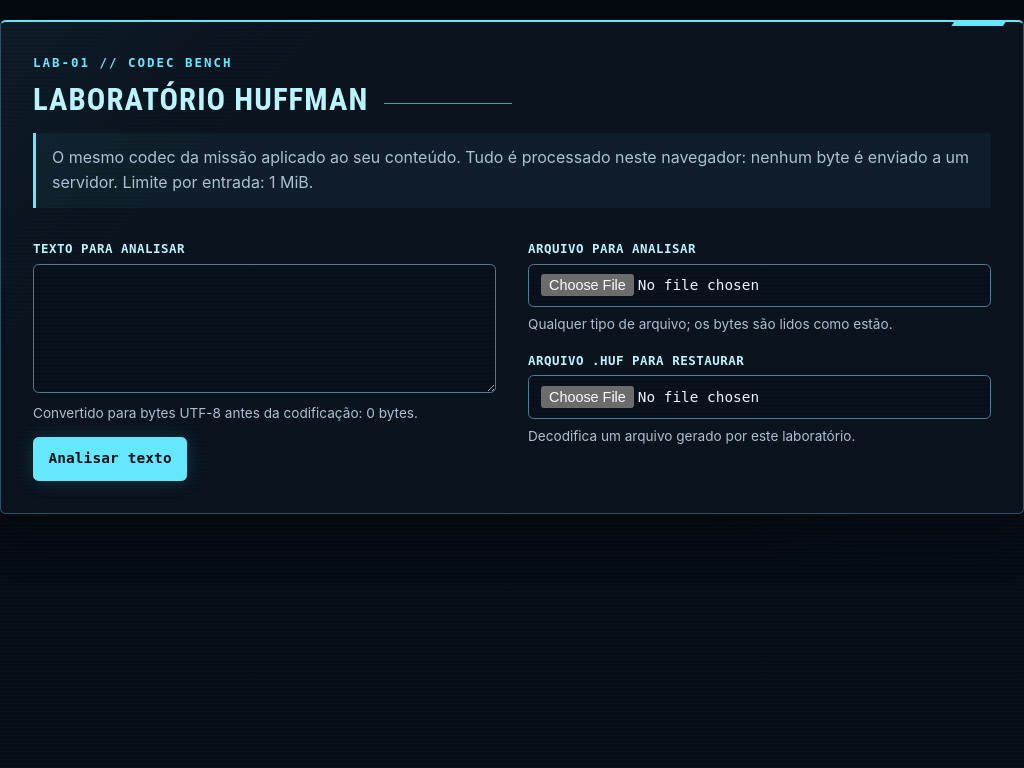
Test: LabTerminal › um erro substitui o resultado anterior em vez de mantê-lo na tela
The width and height of the screenshot is (1024, 768).
In the text box labelled "Texto para analisar": x=264, y=328 [33,264,496,393], type "abracadabra abracadabra"
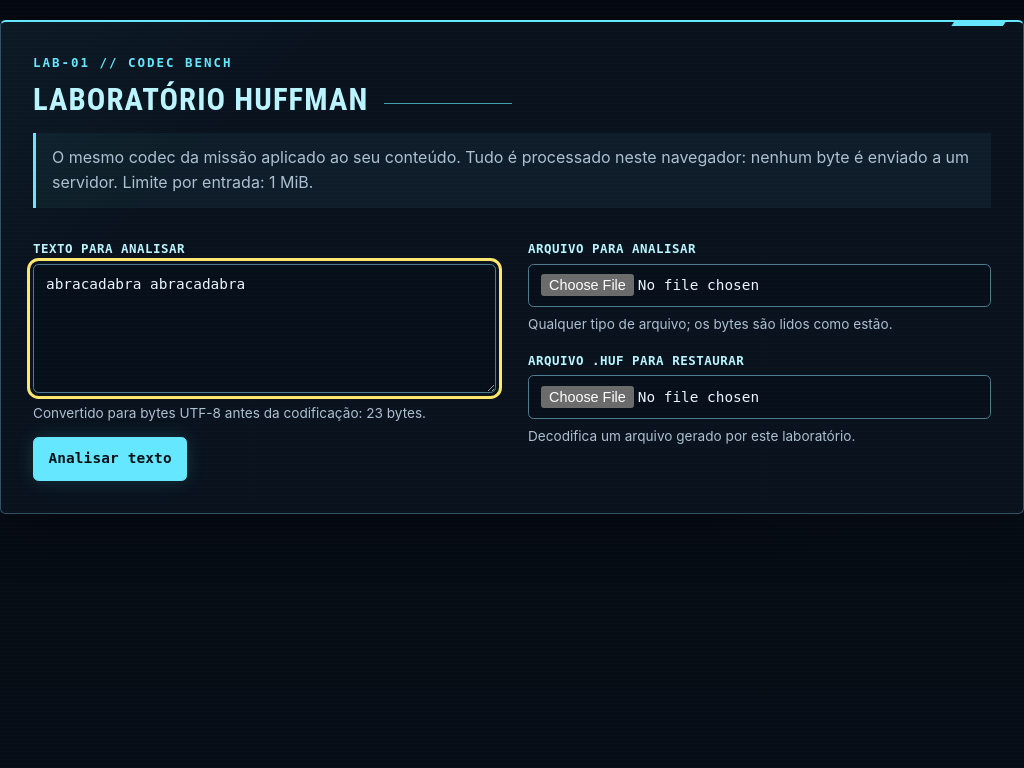
Click the button "Analisar texto": x=110, y=459 [33,437,187,481]
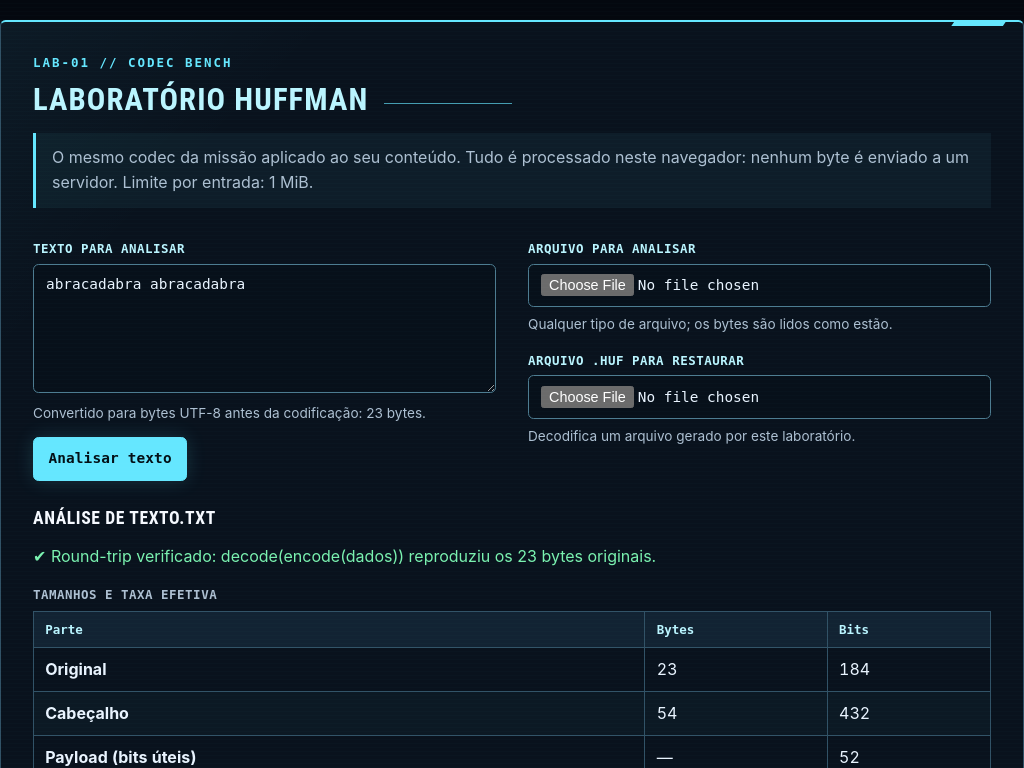
Now the heading "Análise de texto.txt" is shown, box [33,508,216,528]
Clear the text box labelled "Texto para analisar": x=264, y=328 [33,264,496,393]
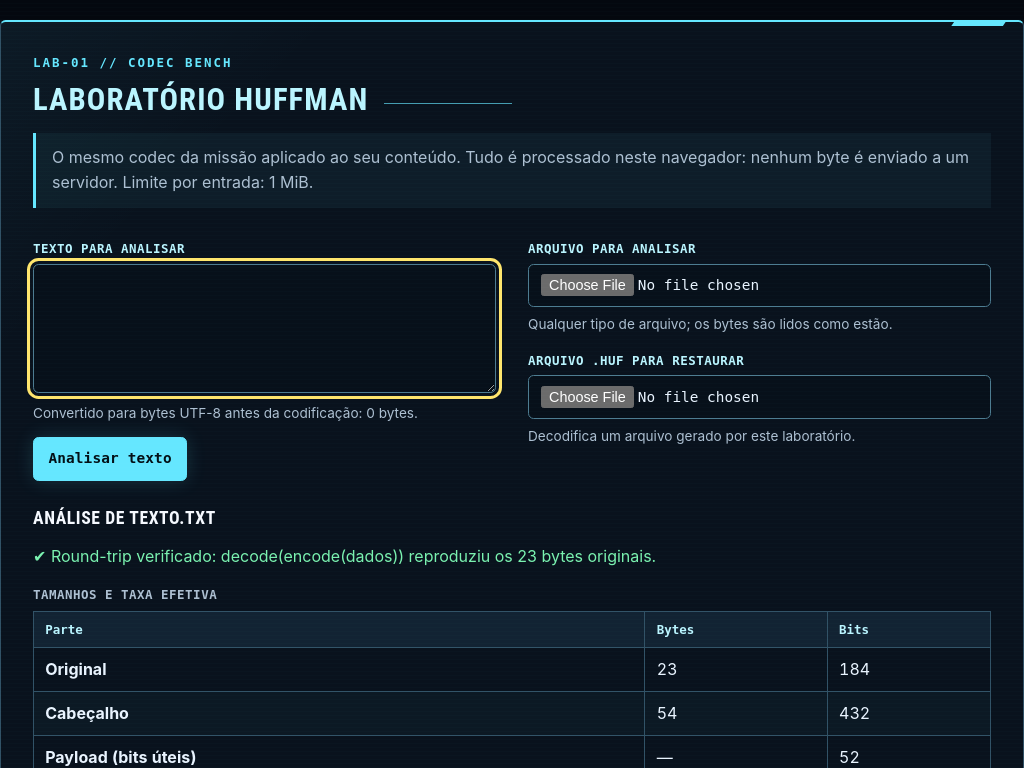
Click the button "Analisar texto": x=110, y=459 [33,437,187,481]
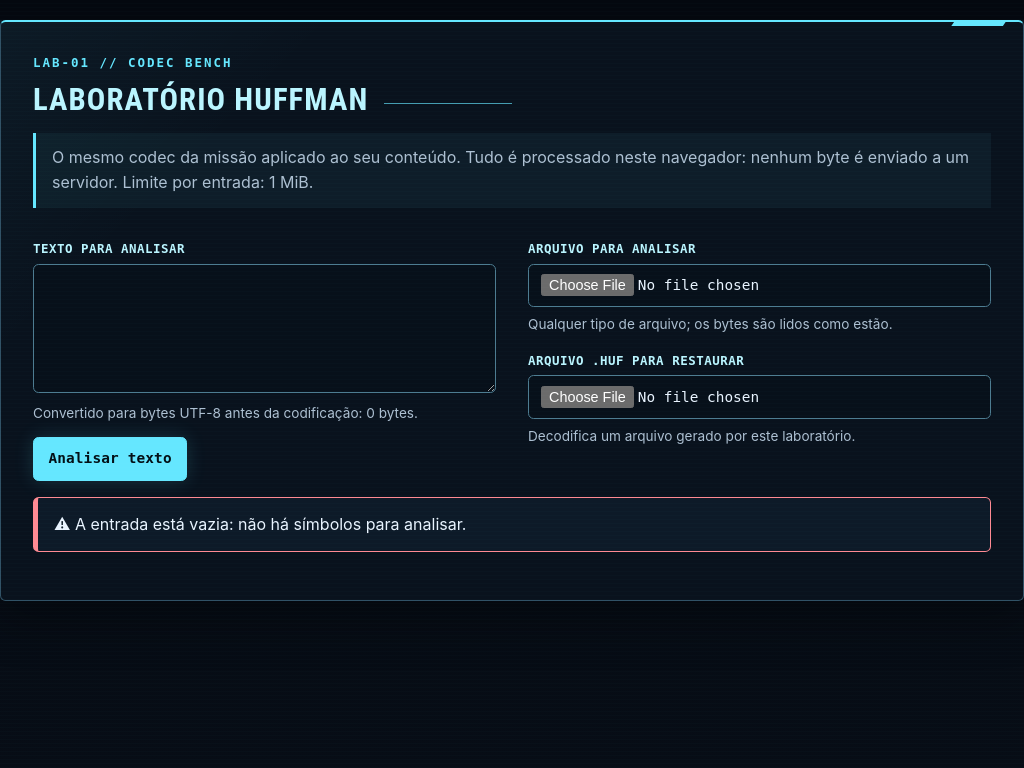
Now the message shows "A entrada está vazia", box [75,514,466,534]
Now the heading "Análise de" is gone
